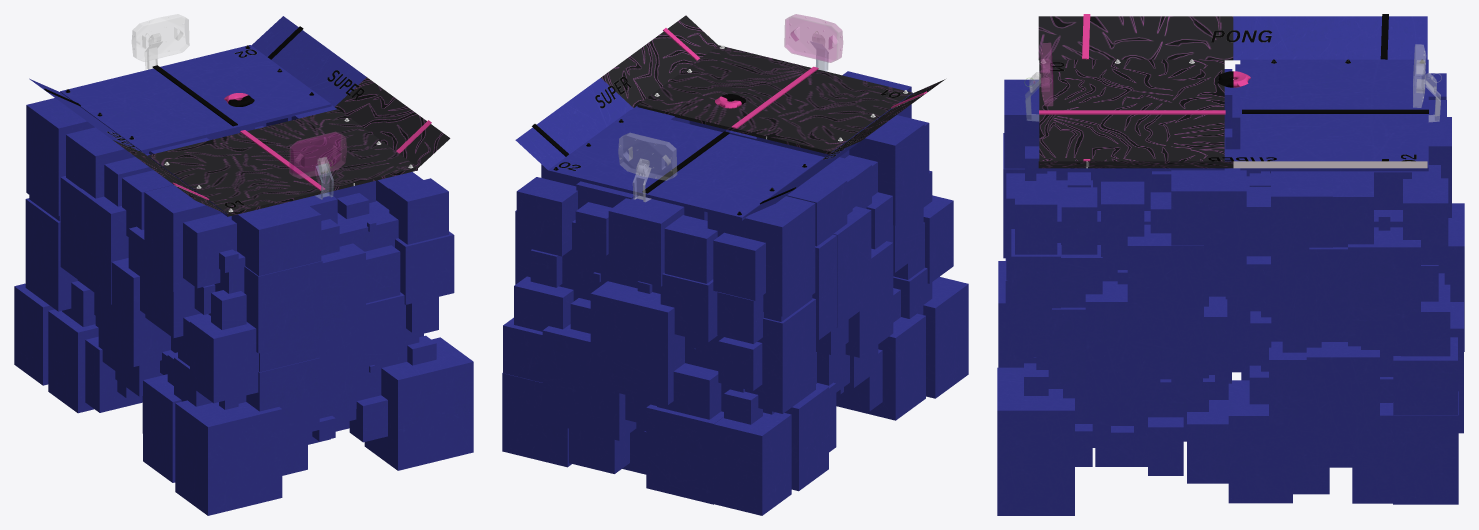
File: export_pongV0.5.glb
The picture shows the model from 3 angles, left to right: view 1: azimuth 30°, elevation 25°; view 2: azimuth 150°, elevation 25°; view 3: azimuth 270°, elevation 25°; orthographic projection. The views are drawn at different scales.
Visible parts, largest first — view 1: terreno, Padel_1, Bake_Padel_2, Bake_DivisorioCampo_Nero, Bake_Divisorio campoMETACAMPO_VIOLA; view 2: terreno, Bake_Padel_2, Padel_1, Bake_Divisorio campoMETACAMPO_VIOLA, Bake_DivisorioCampo_Nero; view 3: terreno, Bake_terreno, Bake_Padel_2, Padel_1, Bake_DivisorioCampo_Nero, Bake_Divisorio campoMETACAMPO_VIOLA.
Part boxes in pixels (left/top/right/bottom): terreno: left=14, top=16, right=473, bottom=515; Padel_1: left=289, top=132, right=346, bottom=199; Bake_Padel_2: left=132, top=14, right=189, bottom=69; Bake_DivisorioCampo_Nero: left=152, top=65, right=237, bottom=126; Bake_Divisorio campoMETACAMPO_VIOLA: left=240, top=130, right=324, bottom=190; terreno: left=502, top=15, right=968, bottom=515; Bake_Padel_2: left=618, top=133, right=676, bottom=201; Padel_1: left=784, top=14, right=842, bottom=71; Bake_Divisorio campoMETACAMPO_VIOLA: left=731, top=66, right=818, bottom=128; Bake_DivisorioCampo_Nero: left=642, top=131, right=729, bottom=193; terreno: left=997, top=16, right=1464, bottom=515; Bake_terreno: left=1233, top=161, right=1427, bottom=168; Bake_Padel_2: left=1413, top=44, right=1441, bottom=121; Padel_1: left=1024, top=43, right=1052, bottom=121; Bake_DivisorioCampo_Nero: left=1242, top=109, right=1428, bottom=113; Bake_Divisorio campoMETACAMPO_VIOLA: left=1039, top=110, right=1225, bottom=114.
Size of the model in its own units: 13.79 by 16.43 by 18.01.
16 materials, 16 textured.
